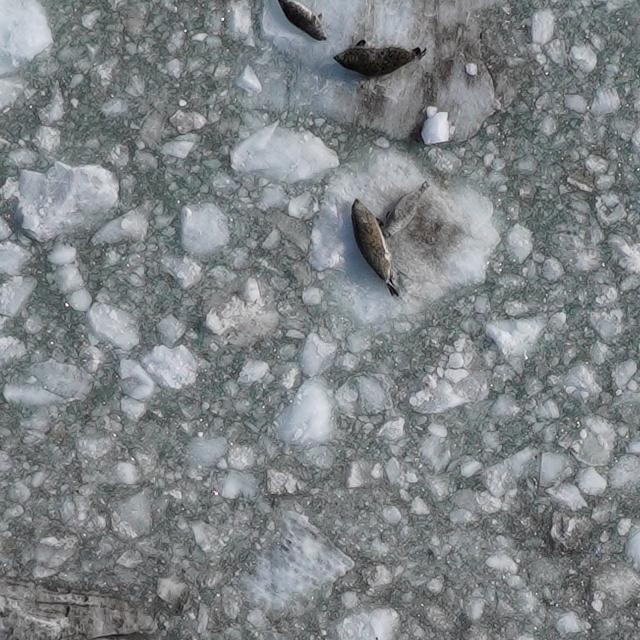seal: (345, 192, 402, 305), (332, 35, 427, 83)
